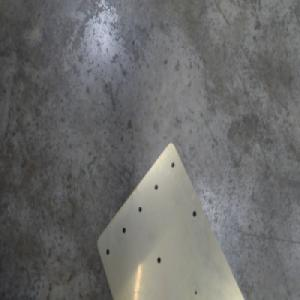MetalSheet: (94, 137, 250, 300)
